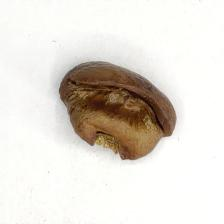NG: (61, 74, 170, 159)
